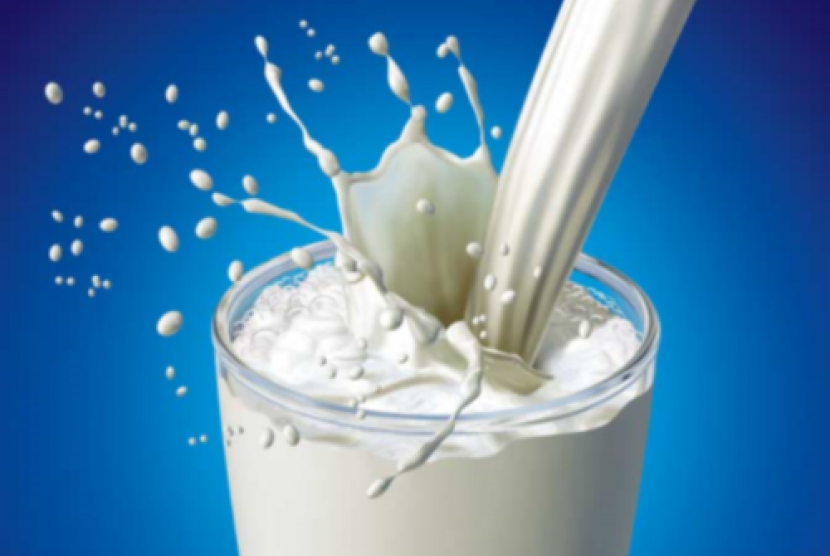produk_susu: (244, 245, 616, 547)
